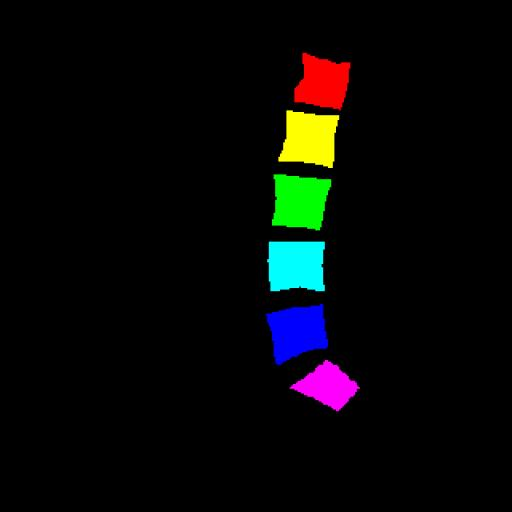L1: (294, 53, 350, 110)
L2: (278, 110, 339, 168)
L3: (272, 174, 331, 230)
L4: (269, 242, 325, 291)
L5: (266, 304, 328, 364)
S1: (290, 360, 359, 411)
